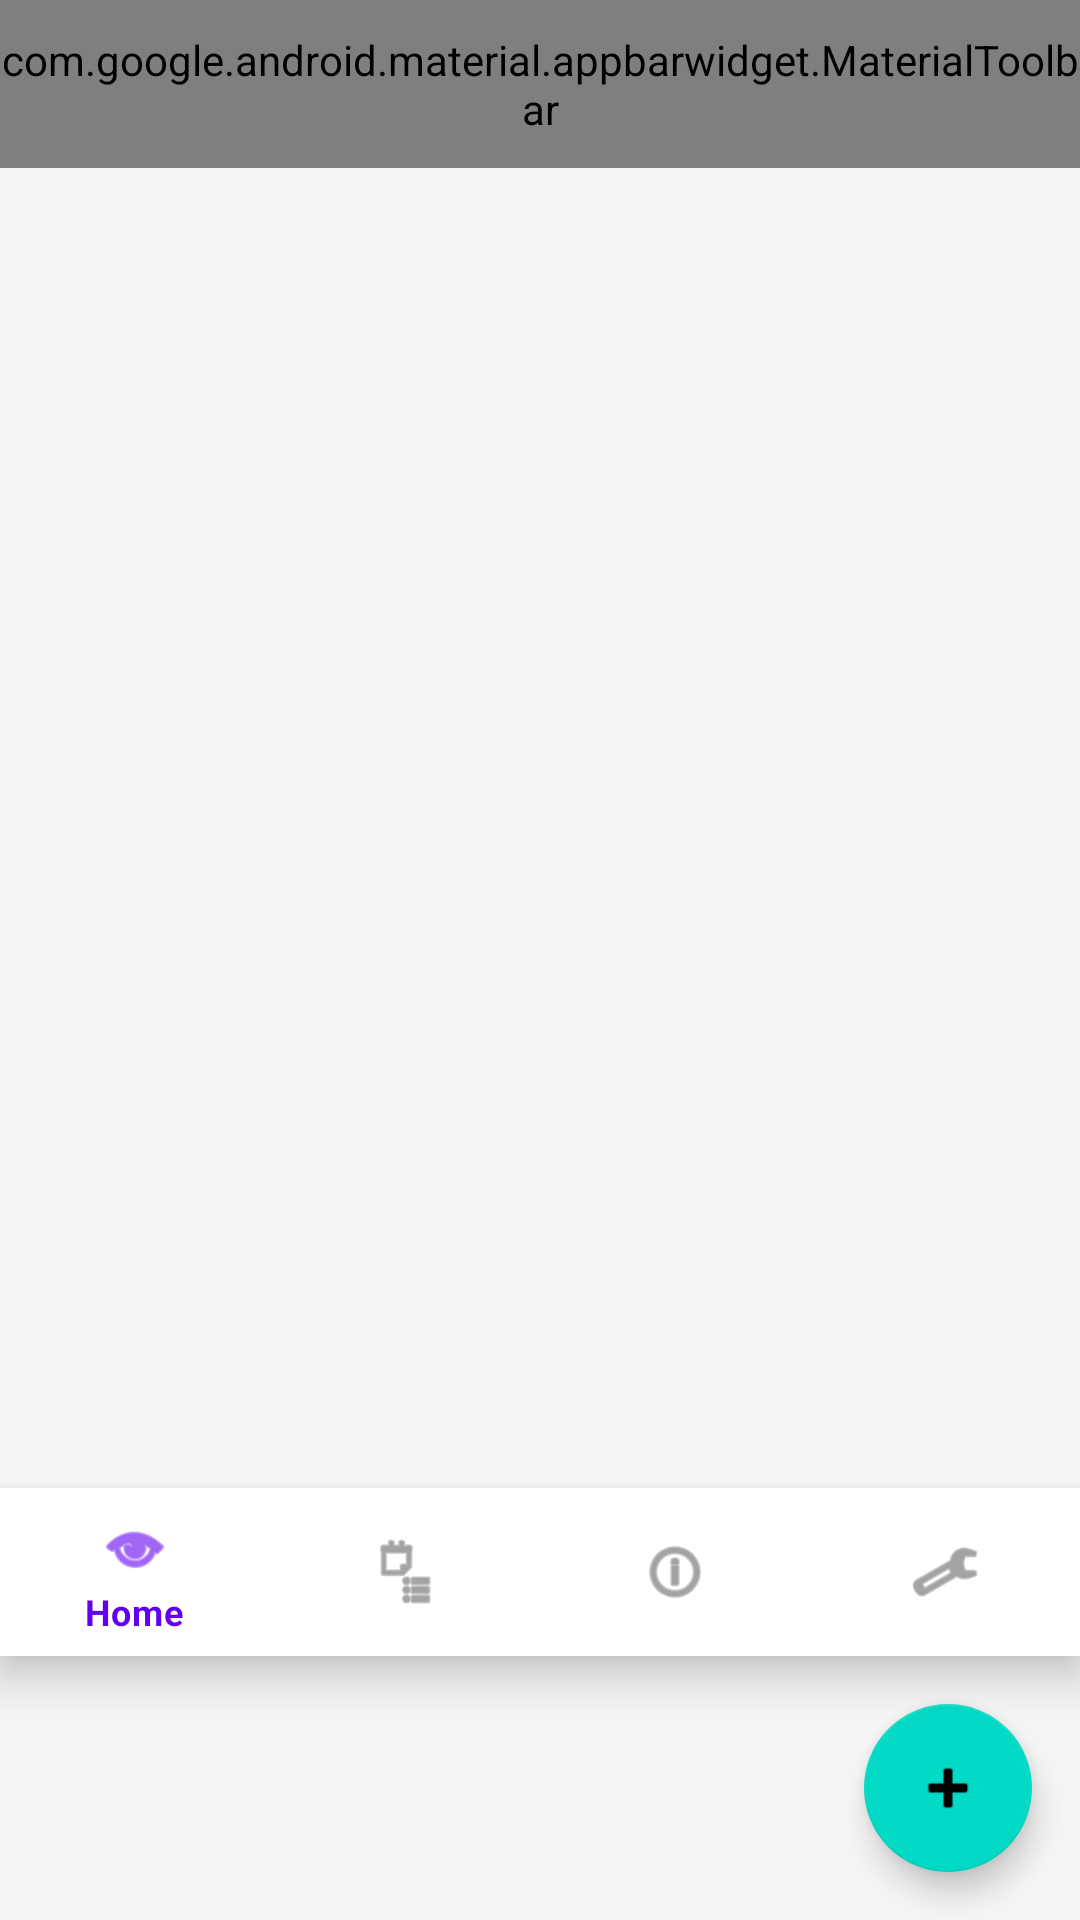

Named icons in this screenshot (1080*1920) and their centers, point (x, y):
Add Study Session: point (948, 1788)
